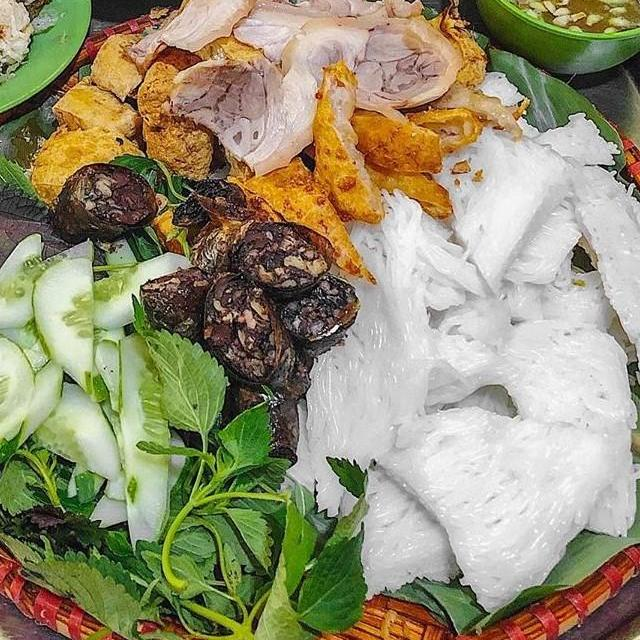bun: (265, 80, 640, 629)
bun dau: (0, 6, 640, 640)
cha com: (229, 54, 535, 286)
cha gio: (0, 0, 65, 122)
dau hu: (26, 30, 161, 198), (132, 48, 236, 190)
doi sun: (131, 176, 371, 469), (51, 154, 163, 242)
thit heo: (147, 0, 470, 182)
